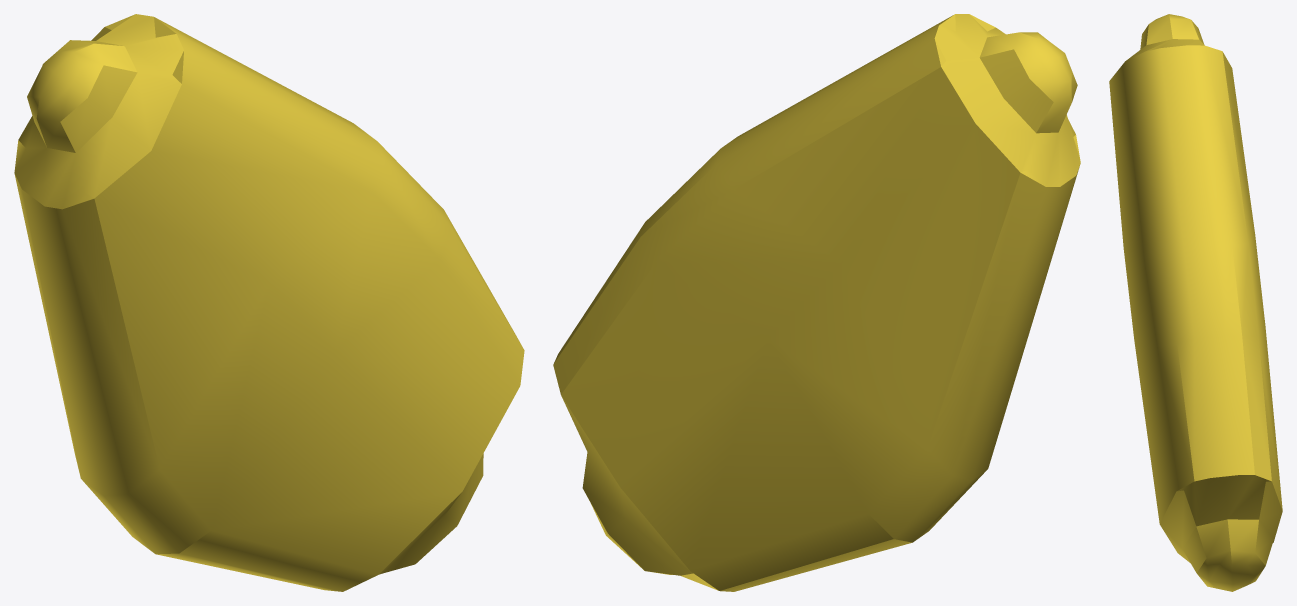
The model's file is golden_chicken_wing.fbx.
3 renders of one model, left to right at view 1: azimuth 30°, elevation 25°; view 2: azimuth 150°, elevation 25°; view 3: azimuth 270°, elevation 25°, orthographic. The views are drawn at different scales.
Visible parts, largest first — view 1: wing.008; view 2: wing.008; view 3: wing.008.
Part boxes in pixels (x1=…): wing.008: x1=14, y1=14, x2=524, y2=591; wing.008: x1=553, y1=14, x2=1080, y2=591; wing.008: x1=1109, y1=14, x2=1282, y2=591.
Size of the model in its own units: 66.71 by 79.47 by 27.6.
